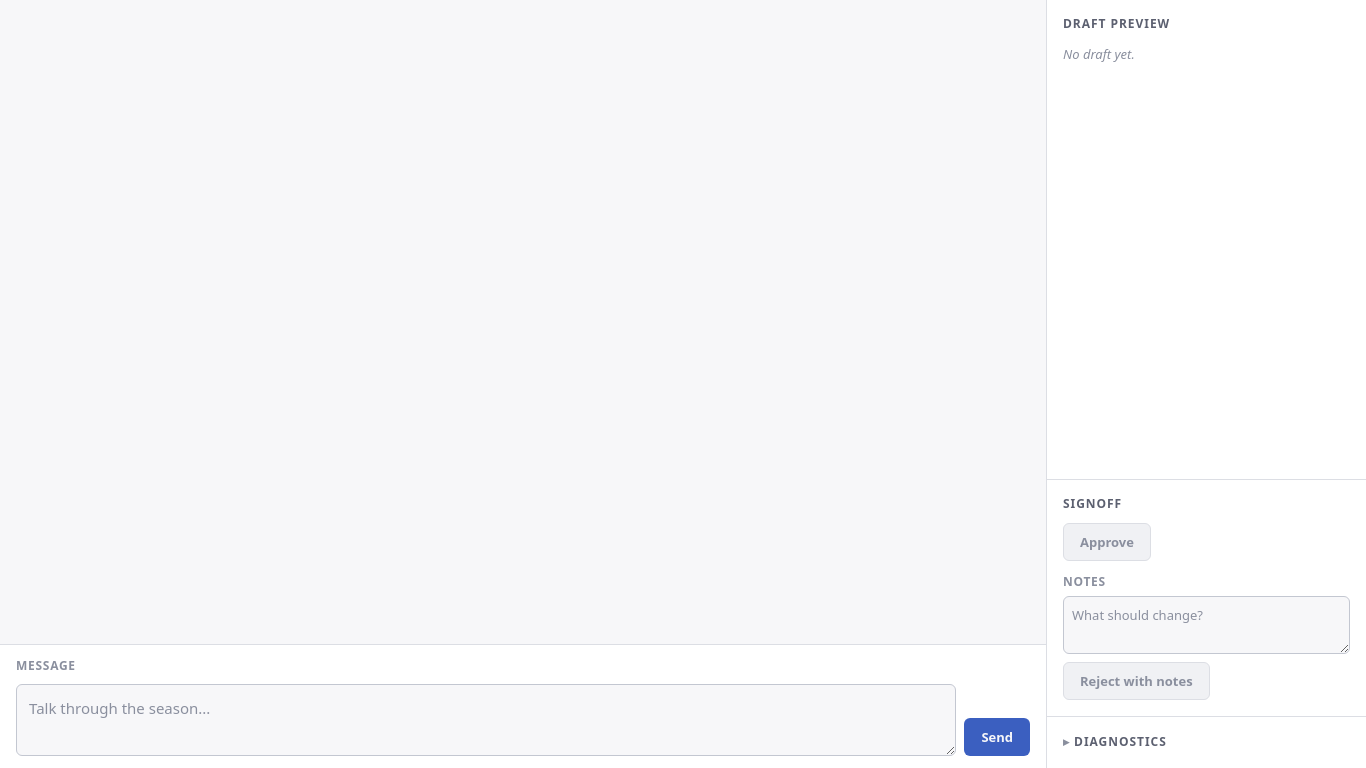
Test: SeasonChat composer › adds the message to a rendered pending list when the server responds 202 queued (AC-ASYNC-2)
Type "Queued msg" into the text box labelled "Message".
click(486, 720); type("Queued msg")  # box [16,684,956,756]
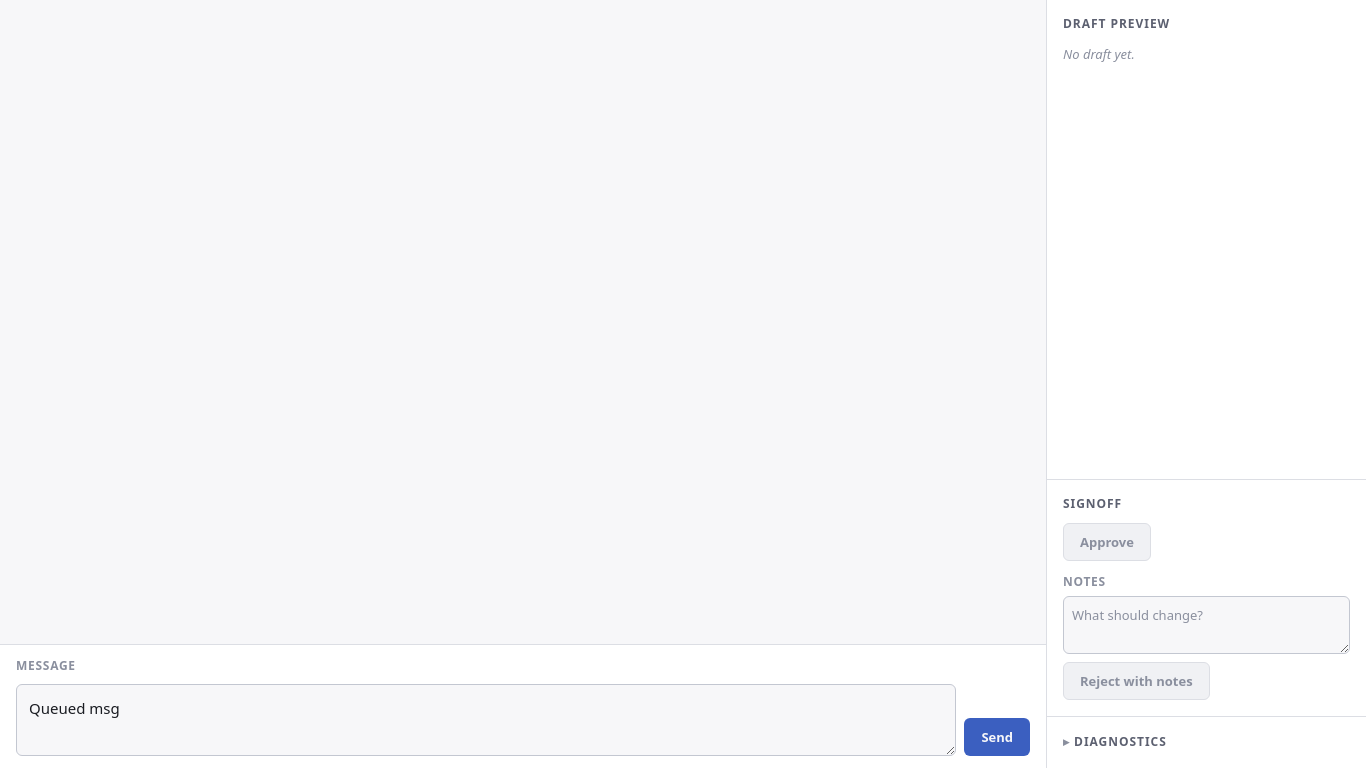
Click the button "Send".
click(997, 737)  # box [964,718,1030,756]
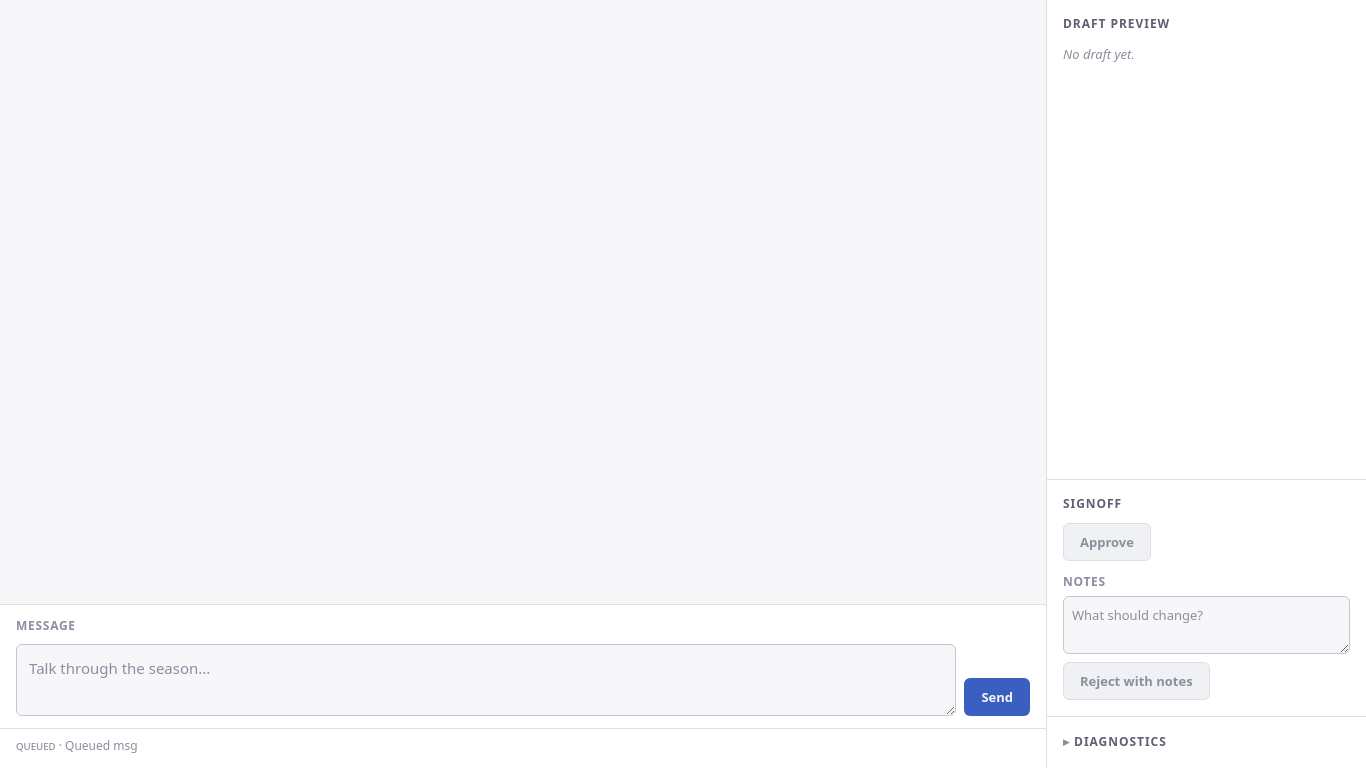
Expected: the list with test id "pending-messages" is shown, [0,728,1046,767]
Expected: the list item with test id "pending-message" reads "Queued msg", [65,737,138,754]
